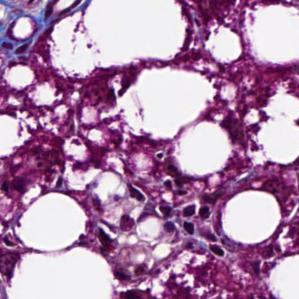inflammation: (153, 197, 216, 236), (92, 223, 121, 246), (124, 181, 150, 205), (207, 241, 228, 261)
